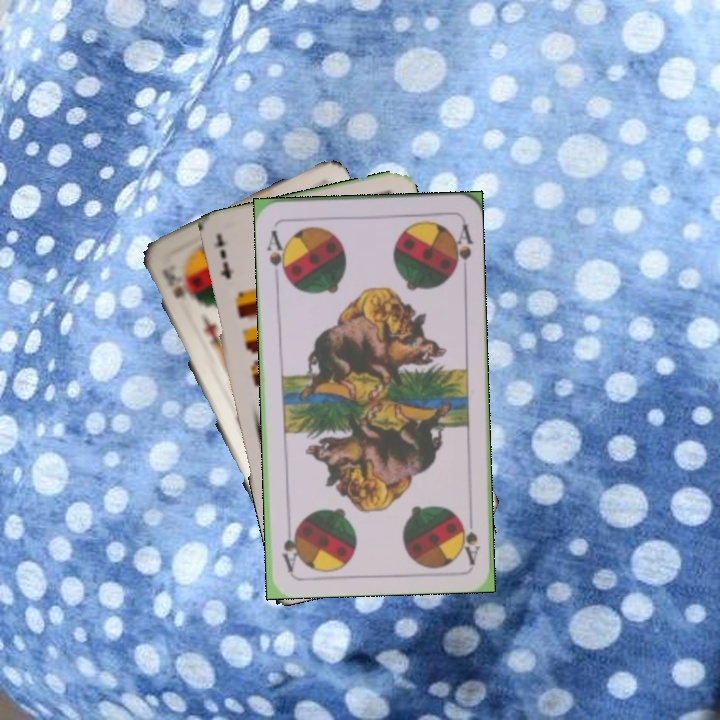E7: (216, 245, 236, 281)
SA: (262, 226, 290, 282), (457, 507, 483, 566)
SK: (163, 267, 189, 301)
